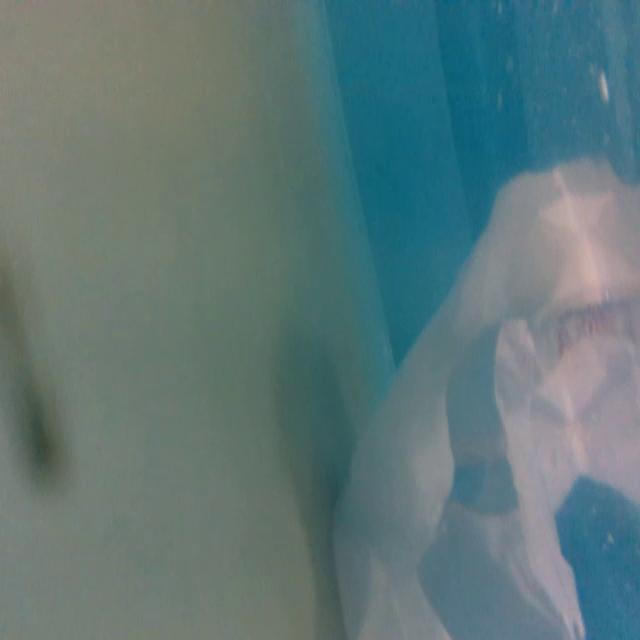plastic bags: (334, 158, 640, 640)
